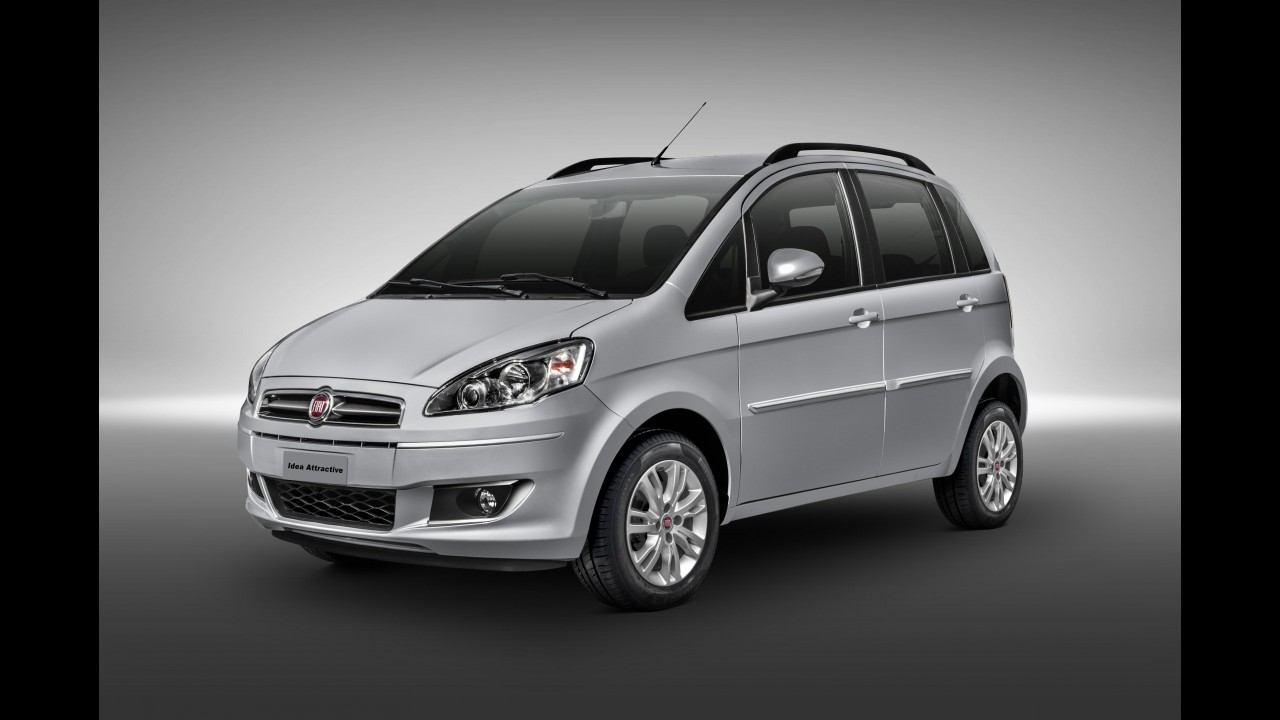Carro: (231, 135, 1033, 601)
